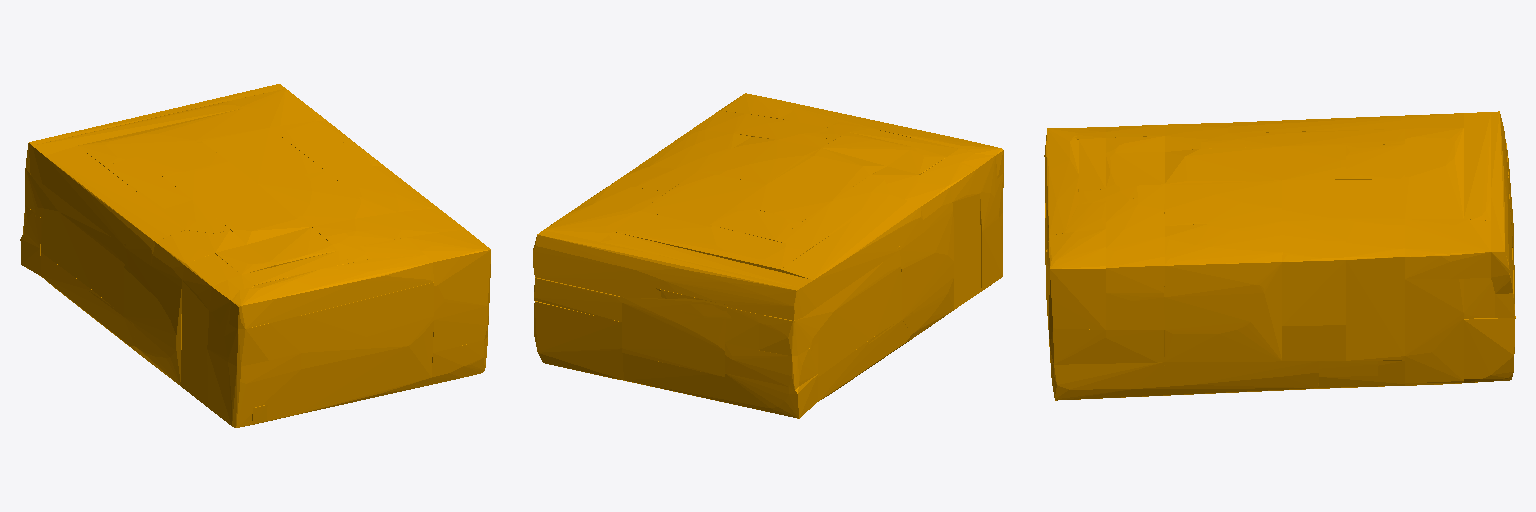
robot.urdf — box-barilla:
<?xml version="1.0" ?>
<robot name="box-barilla">
  <link name="baseLink">
    <contact>
      <lateral_friction value="1.0"/>
      <inertia_scaling value="3.0"/>
    </contact>
    <inertial>
      <origin rpy="0 0 0" xyz="0.000 0.000 0.000"/>
       <mass value=".1"/>
       <inertia ixx="1" ixy="0.0" ixz="0.0" iyy="1" iyz="0.0" izz="1"/>
    </inertial>
    <visual>
      <origin rpy="0 0 0" xyz="0 0 0"/>
      <geometry>
        <mesh filename="box/box-barilla.obj" scale="1.0 1.0 1.0"/>
      </geometry>
    </visual>
    <collision>
      <origin rpy="0 0 0" xyz="0 0 0"/>
      <geometry>
        <mesh filename="../collision/box/box-barilla.obj" scale="1.0 1.0 1.0"/>
      </geometry>
    </collision>
  </link>
</robot>
        

--- Facts derived from the render (not from the file) ---
3 views of the same robot in one strip: view 1: azimuth 30°, elevation 25°; view 2: azimuth 150°, elevation 25°; view 3: azimuth 270°, elevation 25° (orthographic).
Model box-barilla with 1 links and 0 joints (none), rooted at baseLink, posed every joint at zero.
Visible links, largest first — view 1: baseLink; view 2: baseLink; view 3: baseLink.
Link boxes in pixels (left/top/right/bottom): baseLink: left=20, top=84, right=490, bottom=427; baseLink: left=533, top=93, right=1003, bottom=418; baseLink: left=1044, top=111, right=1515, bottom=400.
Size in the robot's own frame: 0.1416 by 0.2005 by 0.0754 metres.
Meshes: 1 distinct files referenced, 1 mesh visuals loaded (1 OBJ).